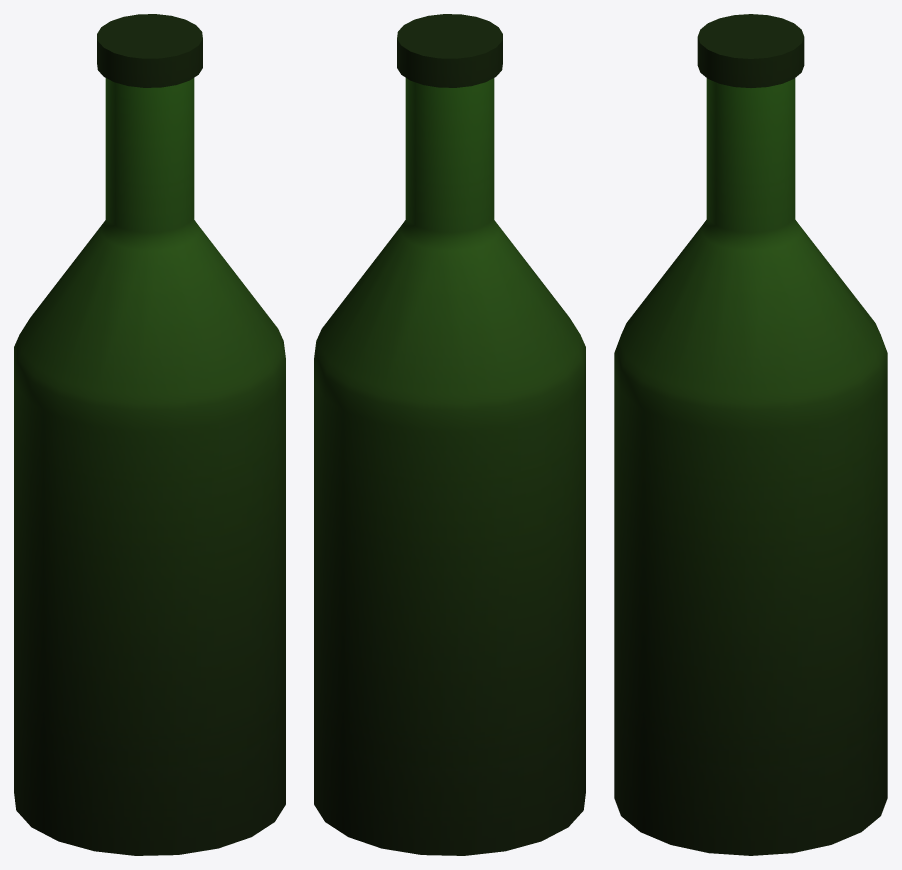
File: bottle_glass_green.fbx
The picture shows the model from 3 angles, left to right: view 1: azimuth 30°, elevation 25°; view 2: azimuth 150°, elevation 25°; view 3: azimuth 270°, elevation 25°; orthographic projection.
Visible parts, largest first — view 1: bottle_glass_green; view 2: bottle_glass_green; view 3: bottle_glass_green.
Boxes of the visible parts, <box> form: bottle_glass_green: <box>14,14,285,855</box>; bottle_glass_green: <box>314,14,585,855</box>; bottle_glass_green: <box>614,14,887,855</box>.
Size of the model in its own units: 112 by 345 by 112.
